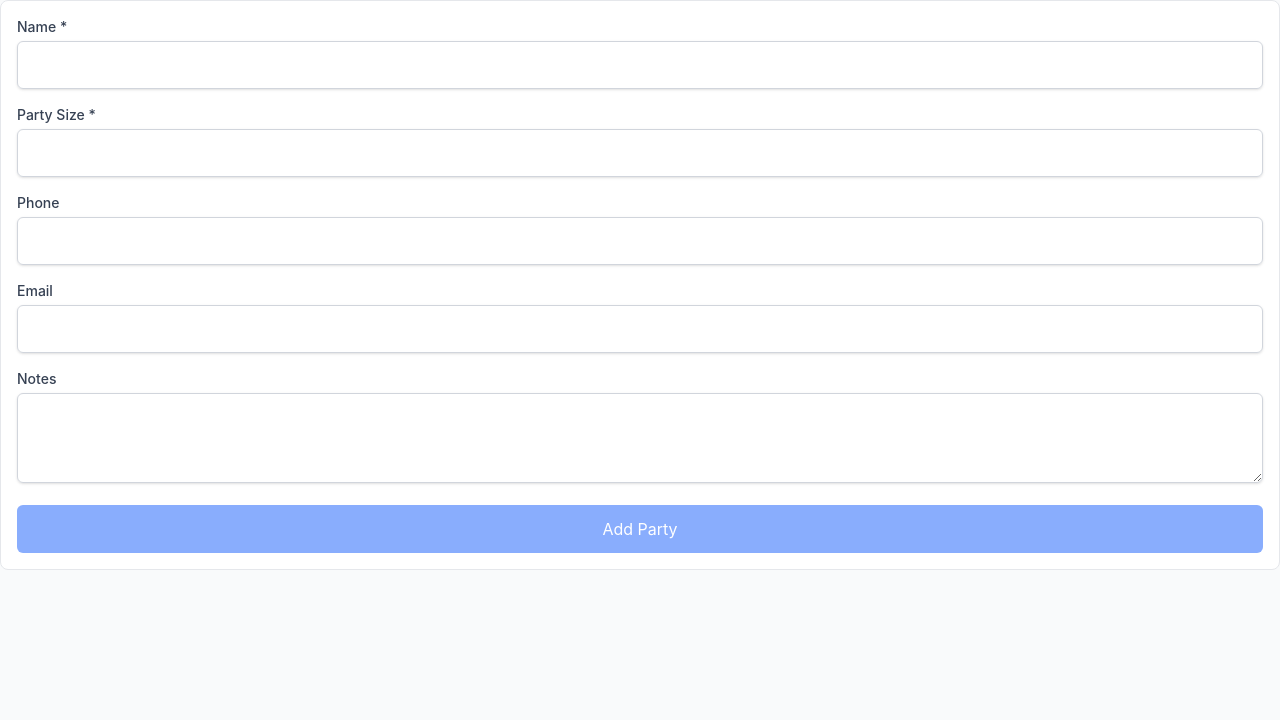
Scenario: AddPartyForm › disables submit button while submission is in flight
Type "Smith" into the field labelled "Name *" at x=640, y=65, box x1=17 y1=41 x2=1263 y2=89
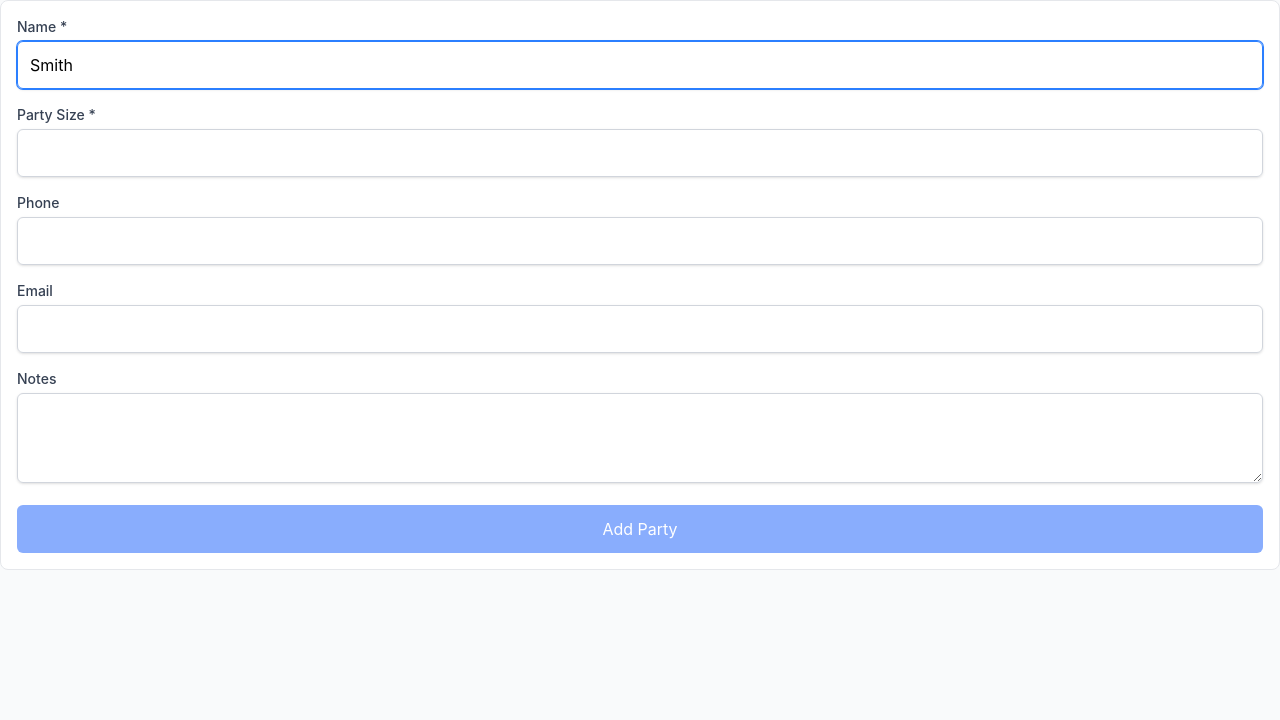
Type "4" into the number field labelled "Party Size *" at x=640, y=153, box x1=17 y1=129 x2=1263 y2=177
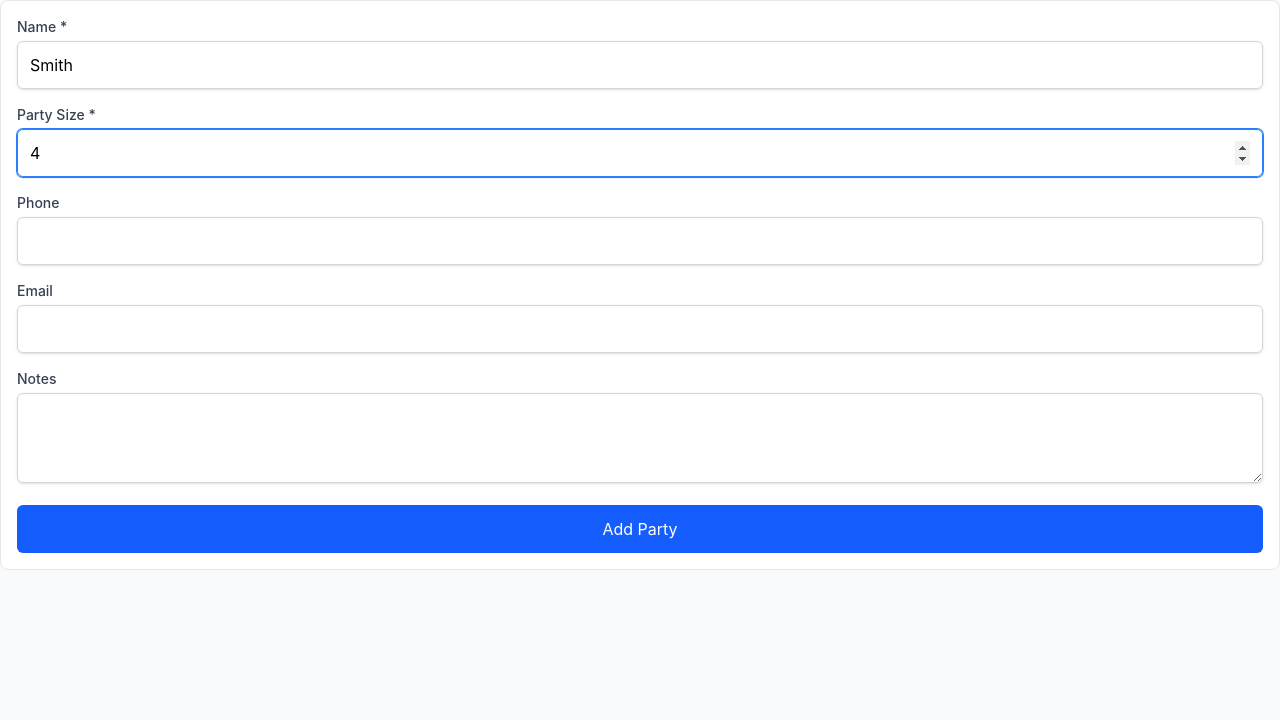
Click the button "Add Party" at x=640, y=529, box x1=17 y1=505 x2=1263 y2=553
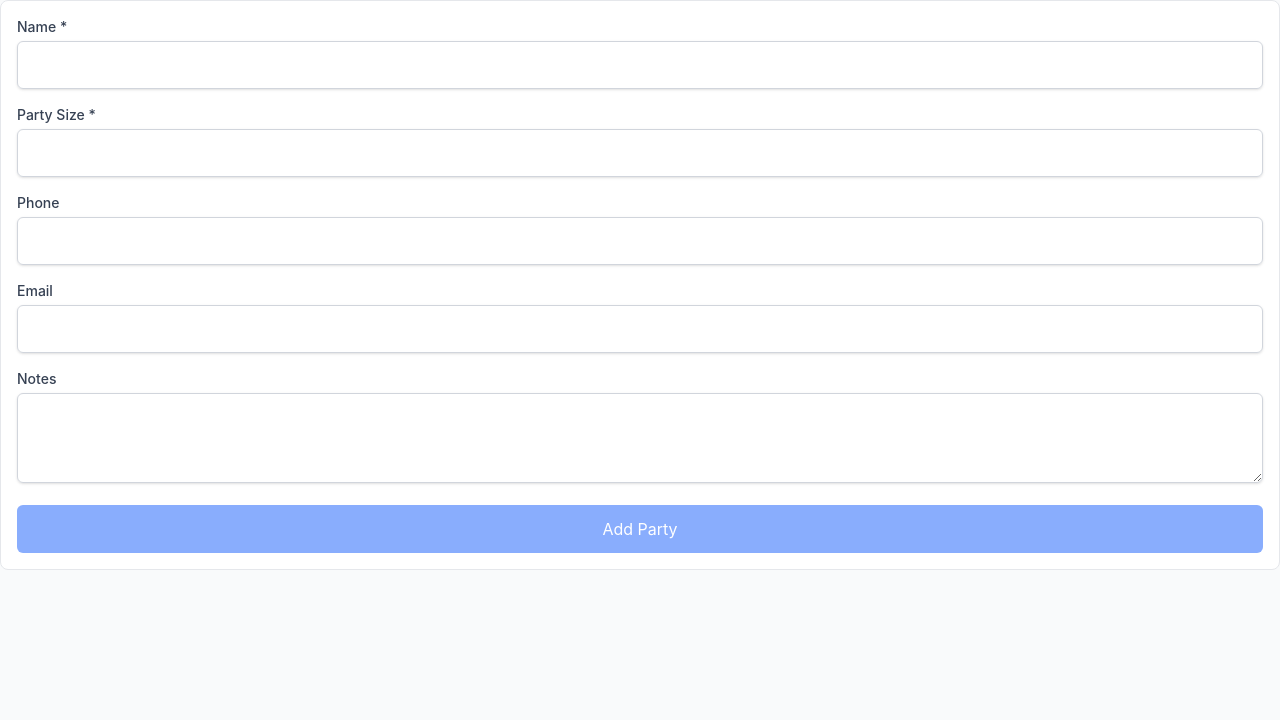
Expected: the button named "adding" is disabled, x1=17 y1=505 x2=1263 y2=553
